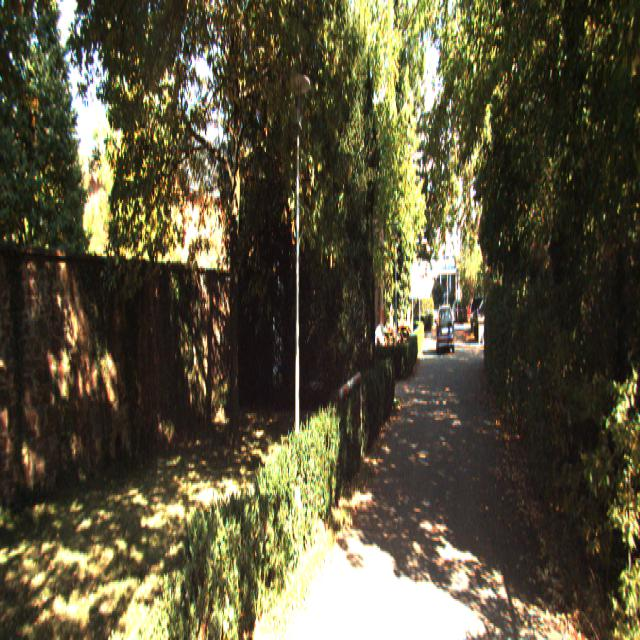Car: (437, 304, 455, 356)
